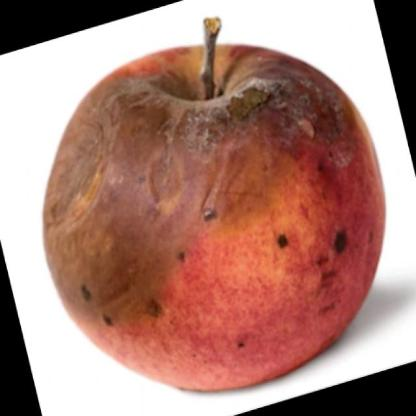defect: (40, 74, 272, 344), (235, 56, 384, 342)
